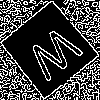W: (24, 24, 91, 90)
